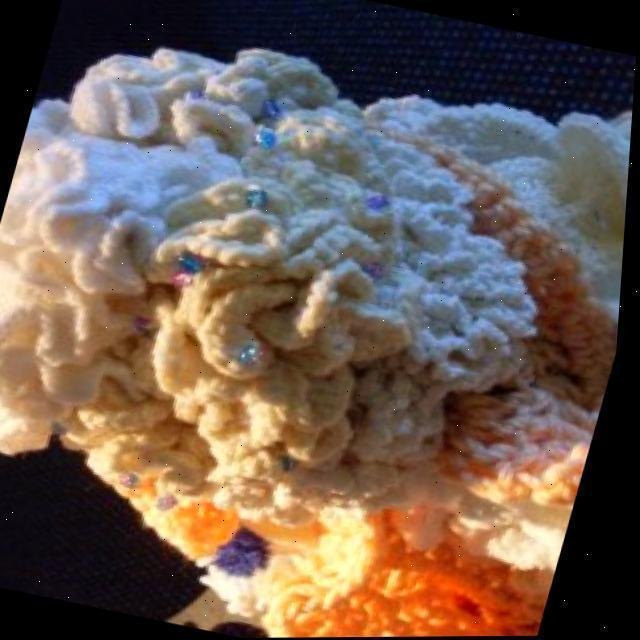Bleached Coral: (0, 52, 619, 501)
